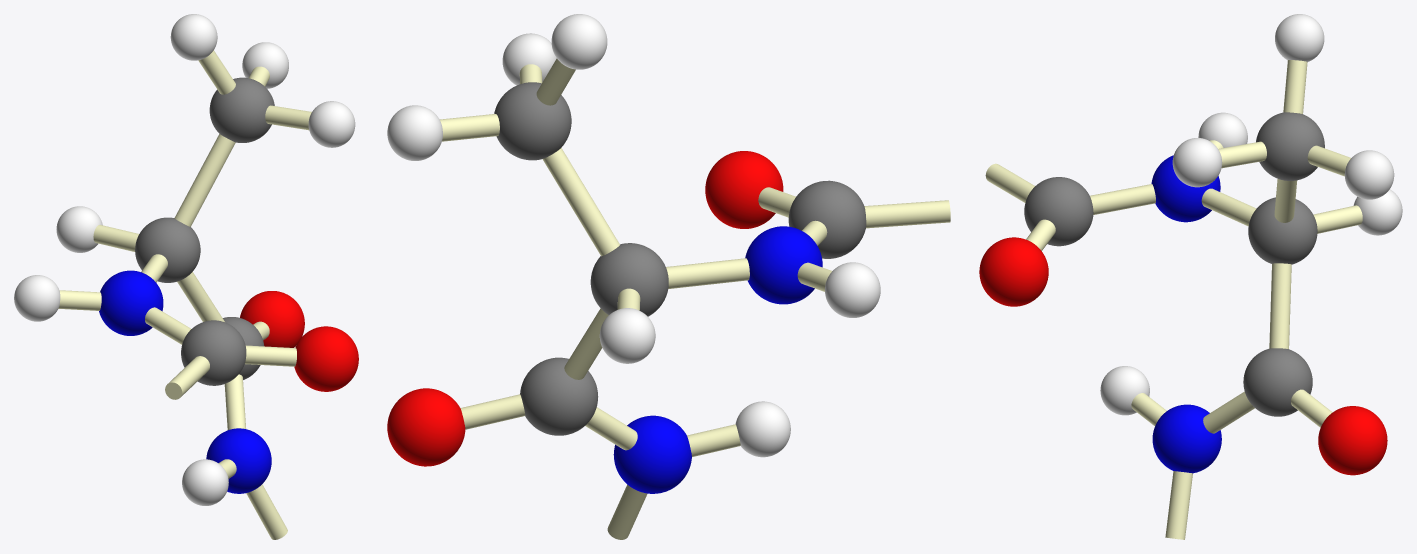
File: conformation.gltf
The picture shows the model from 3 angles, left to right: view 1: azimuth 30°, elevation 25°; view 2: azimuth 150°, elevation 25°; view 3: azimuth 270°, elevation 25°; orthographic projection. The views are drawn at different scales.
Visible parts, largest first — view 1: ?????????2, ?????????3, ?????????9, ?????????1, ?????????4, ?????????13, ?????????6, ?????????22, ?????????12, ?????????10, ?????????14, ?????????7 (+14 smaller); view 2: ?????????6, ?????????5, ?????????13, ?????????2, ?????????9, ?????????3, ?????????4, ?????????1, ?????????22, ?????????8, ?????????10, ?????????11 (+14 smaller); view 3: ?????????2, ?????????6, ?????????13, ?????????5, ?????????1, ?????????9, ?????????4, ?????????3, ?????????12, ?????????11, ?????????10, ?????????14 (+16 smaller).
Part boxes in pixels (x1,y1,x2,y2): ?????????2: (294,326,358,391); ?????????3: (99,270,163,335); ?????????9: (209,77,274,142); ?????????1: (181,320,246,385); ?????????4: (135,217,200,282); ?????????13: (206,428,271,493); ?????????6: (240,291,304,347); ?????????22: (174,134,235,226); ?????????12: (308,101,355,147); ?????????10: (170,14,217,60); ?????????14: (182,459,228,505); ?????????7: (14,275,60,321); ?????????6: (387,388,465,466); ?????????5: (520,357,598,435); ?????????13: (613,415,691,493); ?????????2: (705,151,783,228); ?????????9: (494,82,571,160); ?????????3: (745,226,822,304); ?????????4: (590,243,668,316); ?????????1: (788,180,866,258); ?????????22: (542,148,619,256); ?????????8: (599,308,655,363); ?????????10: (551,14,607,69); ?????????11: (387,105,442,160); ?????????2: (979,237,1048,306); ?????????6: (1318,406,1387,475); ?????????13: (1152,404,1221,473); ?????????5: (1243,348,1312,416); ?????????1: (1024,177,1093,246); ?????????9: (1256,112,1324,180); ?????????4: (1248,197,1317,264); ?????????3: (1151,155,1220,222); ?????????12: (1172,138,1222,187); ?????????11: (1344,150,1394,199); ?????????10: (1275,14,1324,61); ?????????14: (1100,366,1149,415).
Size of the model in its own units: 42.47 by 57.11 by 42.72.
